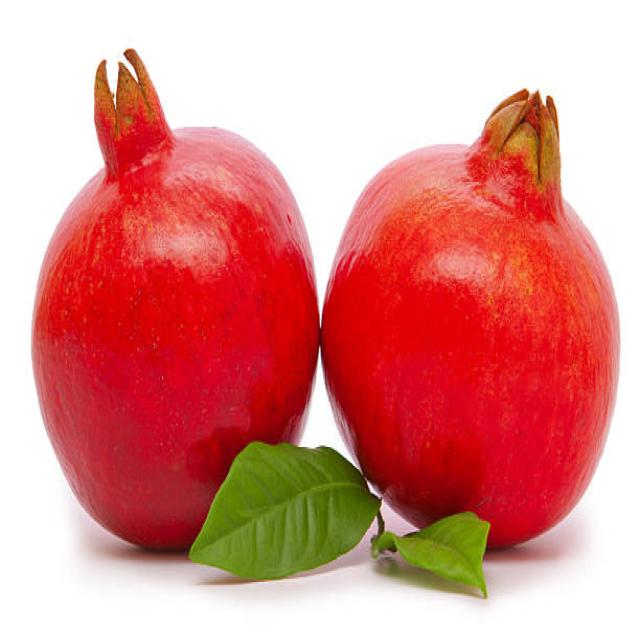Ripe: (26, 47, 324, 554), (325, 82, 623, 554)
